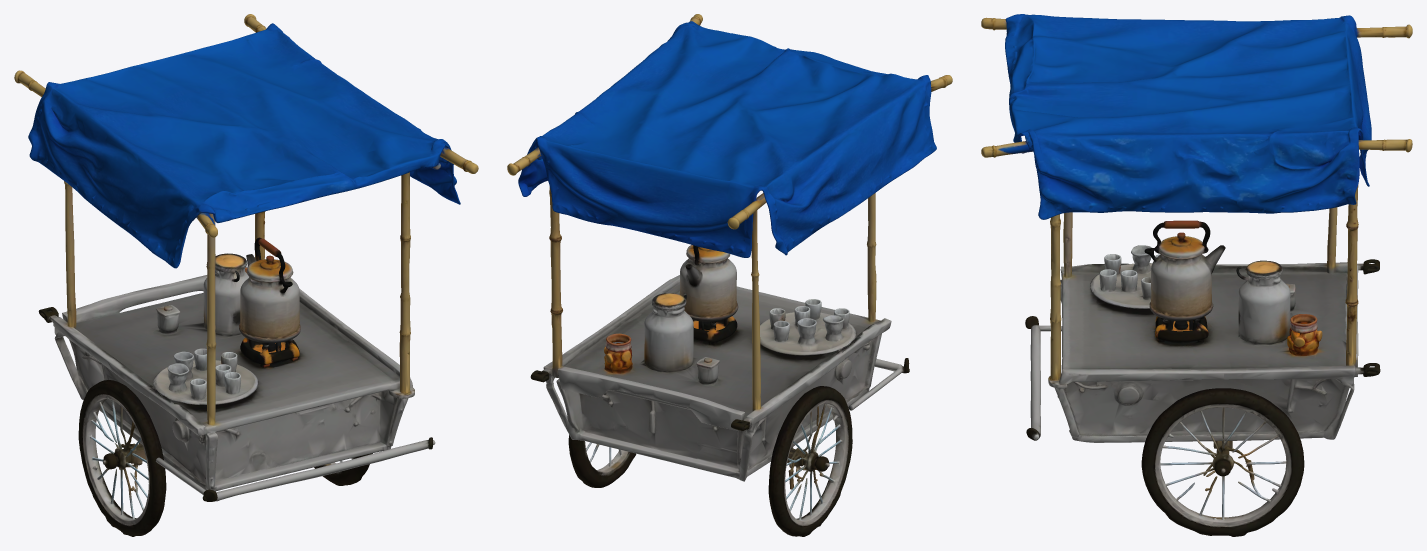
The model's file is chai.glb.
3 renders of one model, left to right at view 1: azimuth 30°, elevation 25°; view 2: azimuth 150°, elevation 25°; view 3: azimuth 270°, elevation 25°, orthographic. The views are drawn at different scales.
Visible parts, largest first — view 1: tripo_node_9a0d9166-4d0f-42a5-8662-7120a5ca1408; view 2: tripo_node_9a0d9166-4d0f-42a5-8662-7120a5ca1408; view 3: tripo_node_9a0d9166-4d0f-42a5-8662-7120a5ca1408.
Boxes of the visible parts, x1,y1,x2,y2 form: tripo_node_9a0d9166-4d0f-42a5-8662-7120a5ca1408: [14, 14, 478, 536]; tripo_node_9a0d9166-4d0f-42a5-8662-7120a5ca1408: [507, 14, 952, 536]; tripo_node_9a0d9166-4d0f-42a5-8662-7120a5ca1408: [981, 14, 1412, 536].
Bounding box in the file's own units: 1.12 × 1.5 × 1.42.
1 material, 1 textured.
